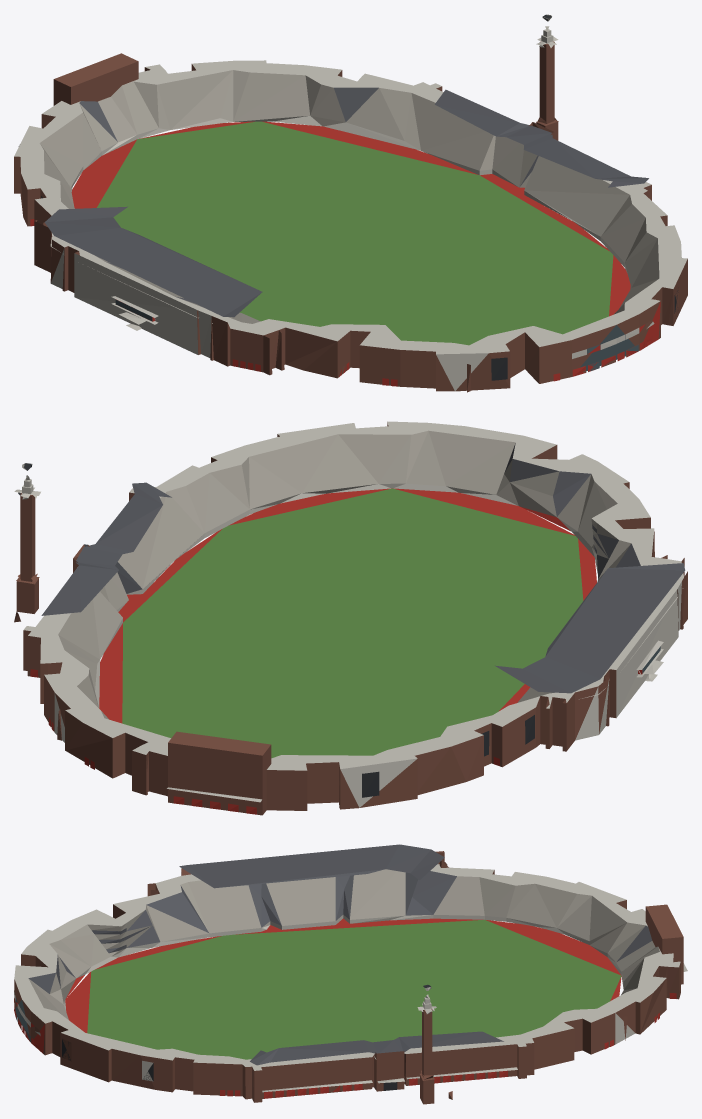
The model's file is olympisch-stadion.lod2.glb.
3 renders of one model, top to bottom at view 1: azimuth 30°, elevation 25°; view 2: azimuth 150°, elevation 25°; view 3: azimuth 270°, elevation 25°, orthographic. The views are drawn at different scales.
Parts seen in each view (by area): view 1: lod2; view 2: lod2; view 3: lod2.
Boxes of the visible parts, box(x1,y1,x2,y2) form: lod2: box(14, 14, 687, 392); lod2: box(14, 421, 687, 815); lod2: box(14, 844, 687, 1104).
Size of the model in its own units: 189 by 45.99 by 245.
